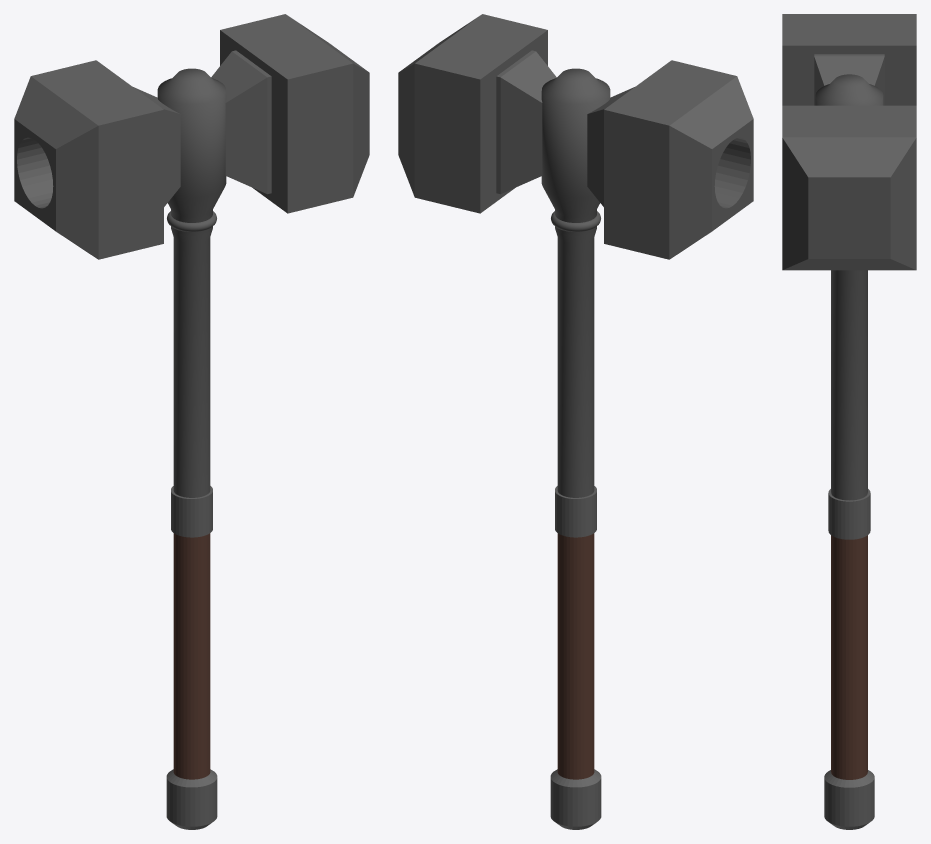
Rendered from SP_Iron Warhammer.fbx.
3 renders of one model, left to right at view 1: azimuth 30°, elevation 25°; view 2: azimuth 150°, elevation 25°; view 3: azimuth 270°, elevation 25°, orthographic.
Visible parts, largest first — view 1: Iron Warhammer; view 2: Iron Warhammer; view 3: Iron Warhammer.
Part boxes in pixels (x1,y1,x2,y2): Iron Warhammer: [14, 14, 369, 829]; Iron Warhammer: [398, 14, 753, 829]; Iron Warhammer: [782, 14, 916, 829].
Bounding box in the file's own units: 273 × 626 × 102.
